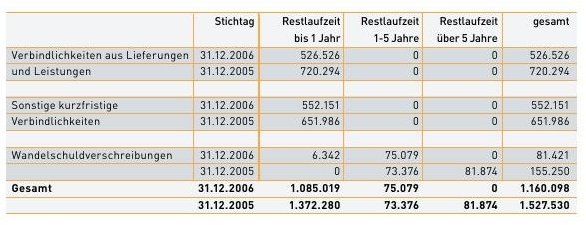table: (0, 0, 586, 225)
